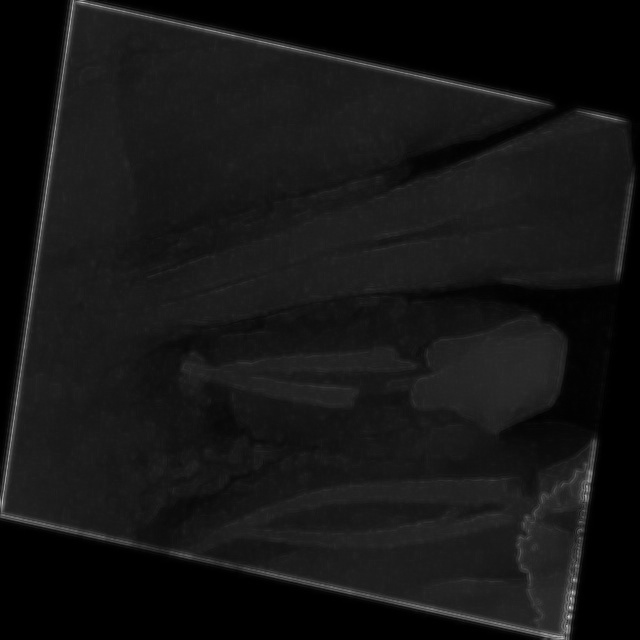Class 0- No endodontic treatment: (151, 382, 582, 638)
Class 1- complete endodontic treatment: (114, 172, 610, 568)
